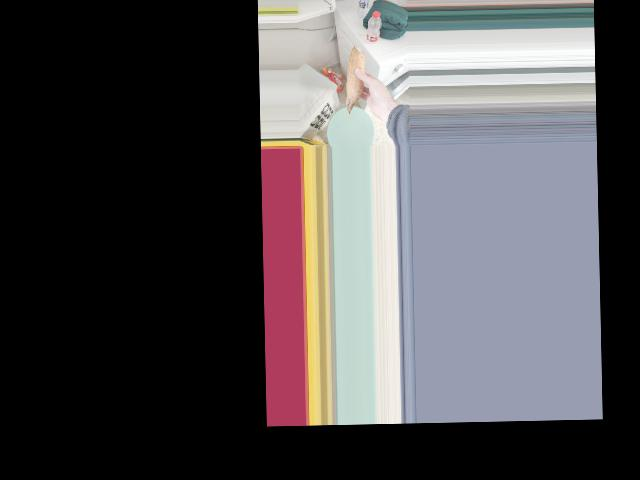sweet_potato: (343, 43, 363, 118)
